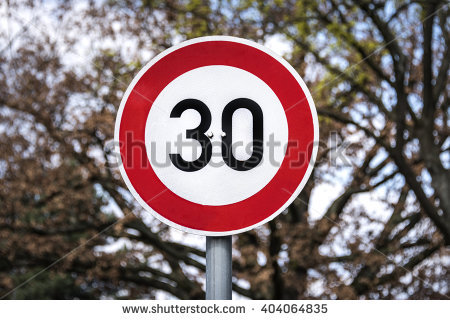Speed_limit_30km: (120, 37, 319, 236)
